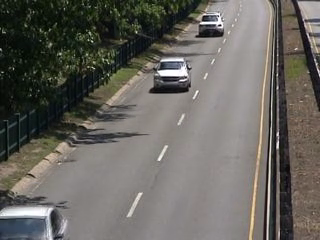car: (1, 203, 73, 240), (150, 54, 193, 94), (197, 10, 228, 39)
